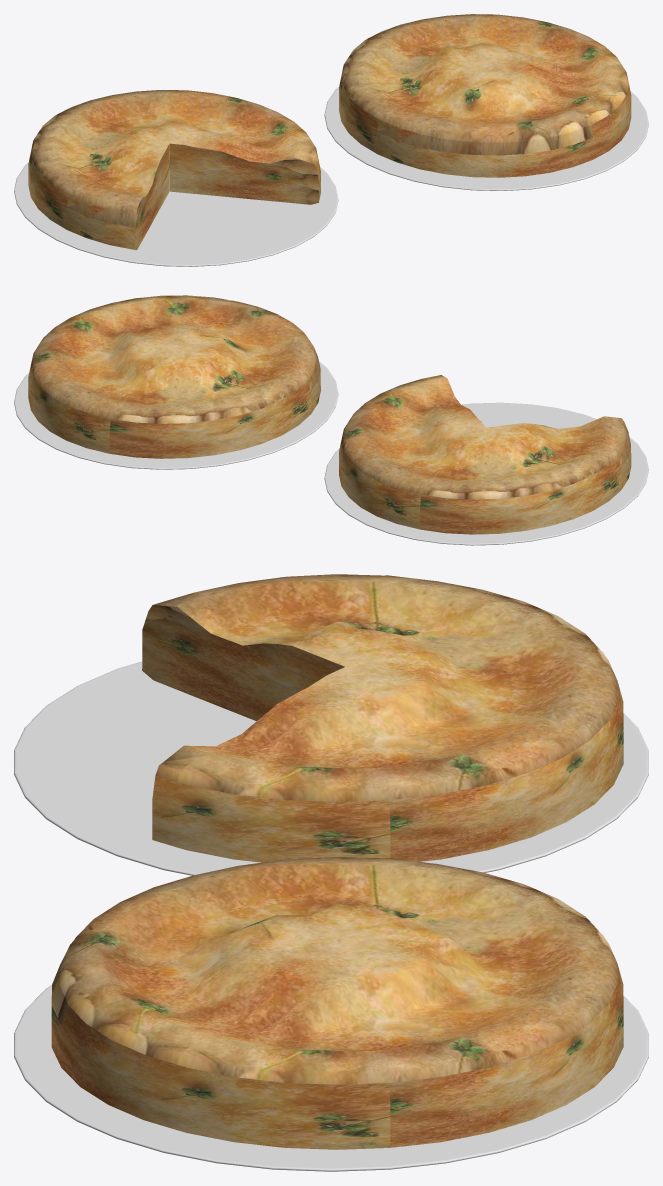
Rendered from pasqualina3.fbx.
The picture shows the model from 3 angles, top to bottom: view 1: azimuth 30°, elevation 25°; view 2: azimuth 150°, elevation 25°; view 3: azimuth 270°, elevation 25°; orthographic projection. The views are drawn at different scales.
Parts seen in each view (by area): view 1: Arch_44__023_150_2, Arch_44__023_150, Arch_44__023_151, Arch_44__023_151_2; view 2: Arch_44__023_150_2, Arch_44__023_150, Arch_44__023_151, Arch_44__023_151_2; view 3: Arch_44__023_150_2, Arch_44__023_150, Arch_44__023_151, Arch_44__023_151_2.
Part boxes in pixels (x1,y1,x2,y2): Arch_44__023_150_2: [339, 14, 631, 177]; Arch_44__023_150: [28, 90, 320, 250]; Arch_44__023_151: [14, 162, 338, 266]; Arch_44__023_151_2: [324, 87, 648, 190]; Arch_44__023_150_2: [28, 295, 320, 458]; Arch_44__023_150: [339, 375, 631, 534]; Arch_44__023_151: [324, 402, 648, 545]; Arch_44__023_151_2: [14, 361, 338, 469]; Arch_44__023_150_2: [51, 857, 623, 1149]; Arch_44__023_150: [142, 574, 623, 862]; Arch_44__023_151: [14, 661, 648, 875]; Arch_44__023_151_2: [14, 985, 648, 1171].
Size of the model in its own units: 83.62 by 7.34 by 42.02.
